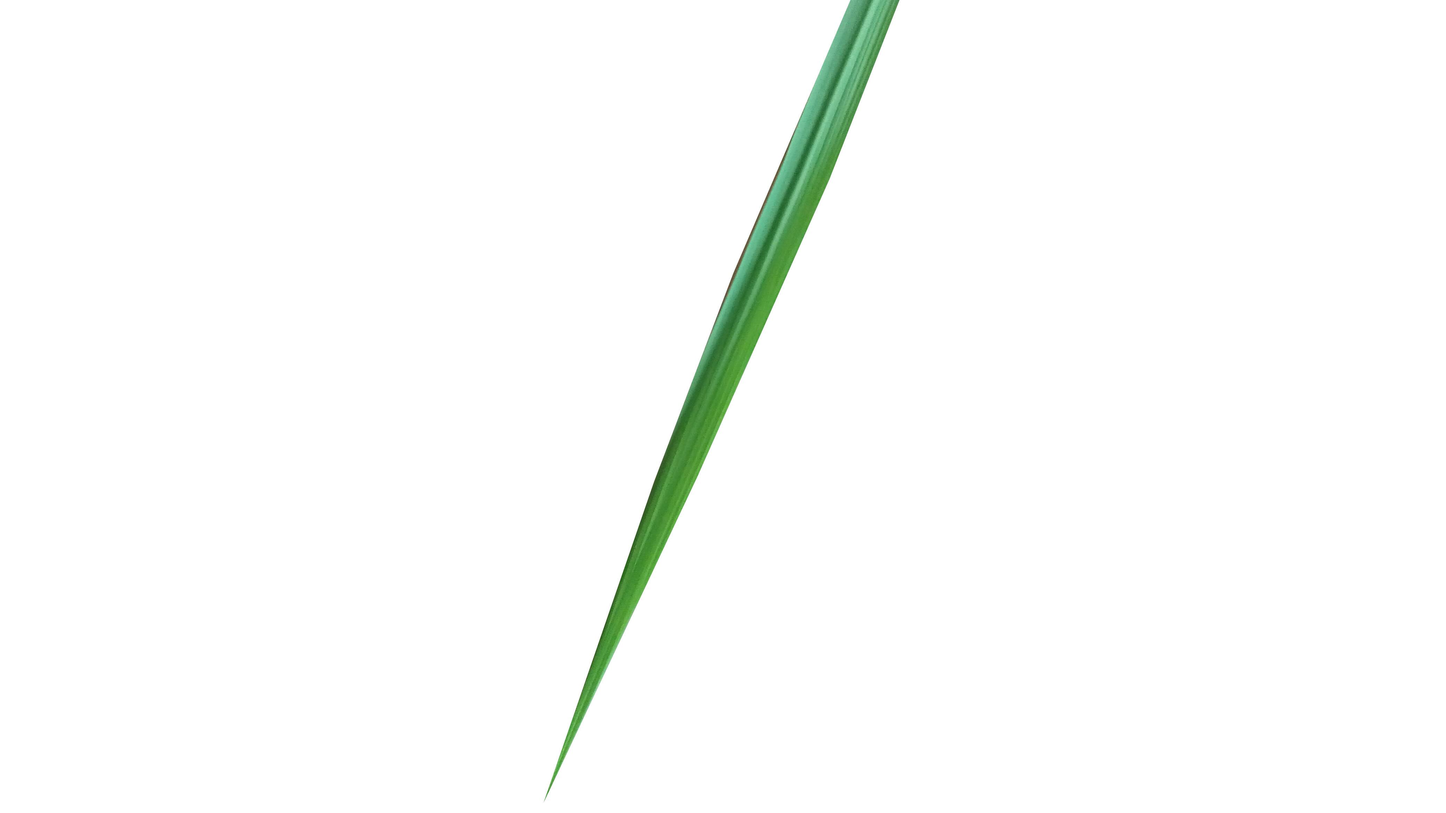Healthy: (541, 0, 904, 805)
